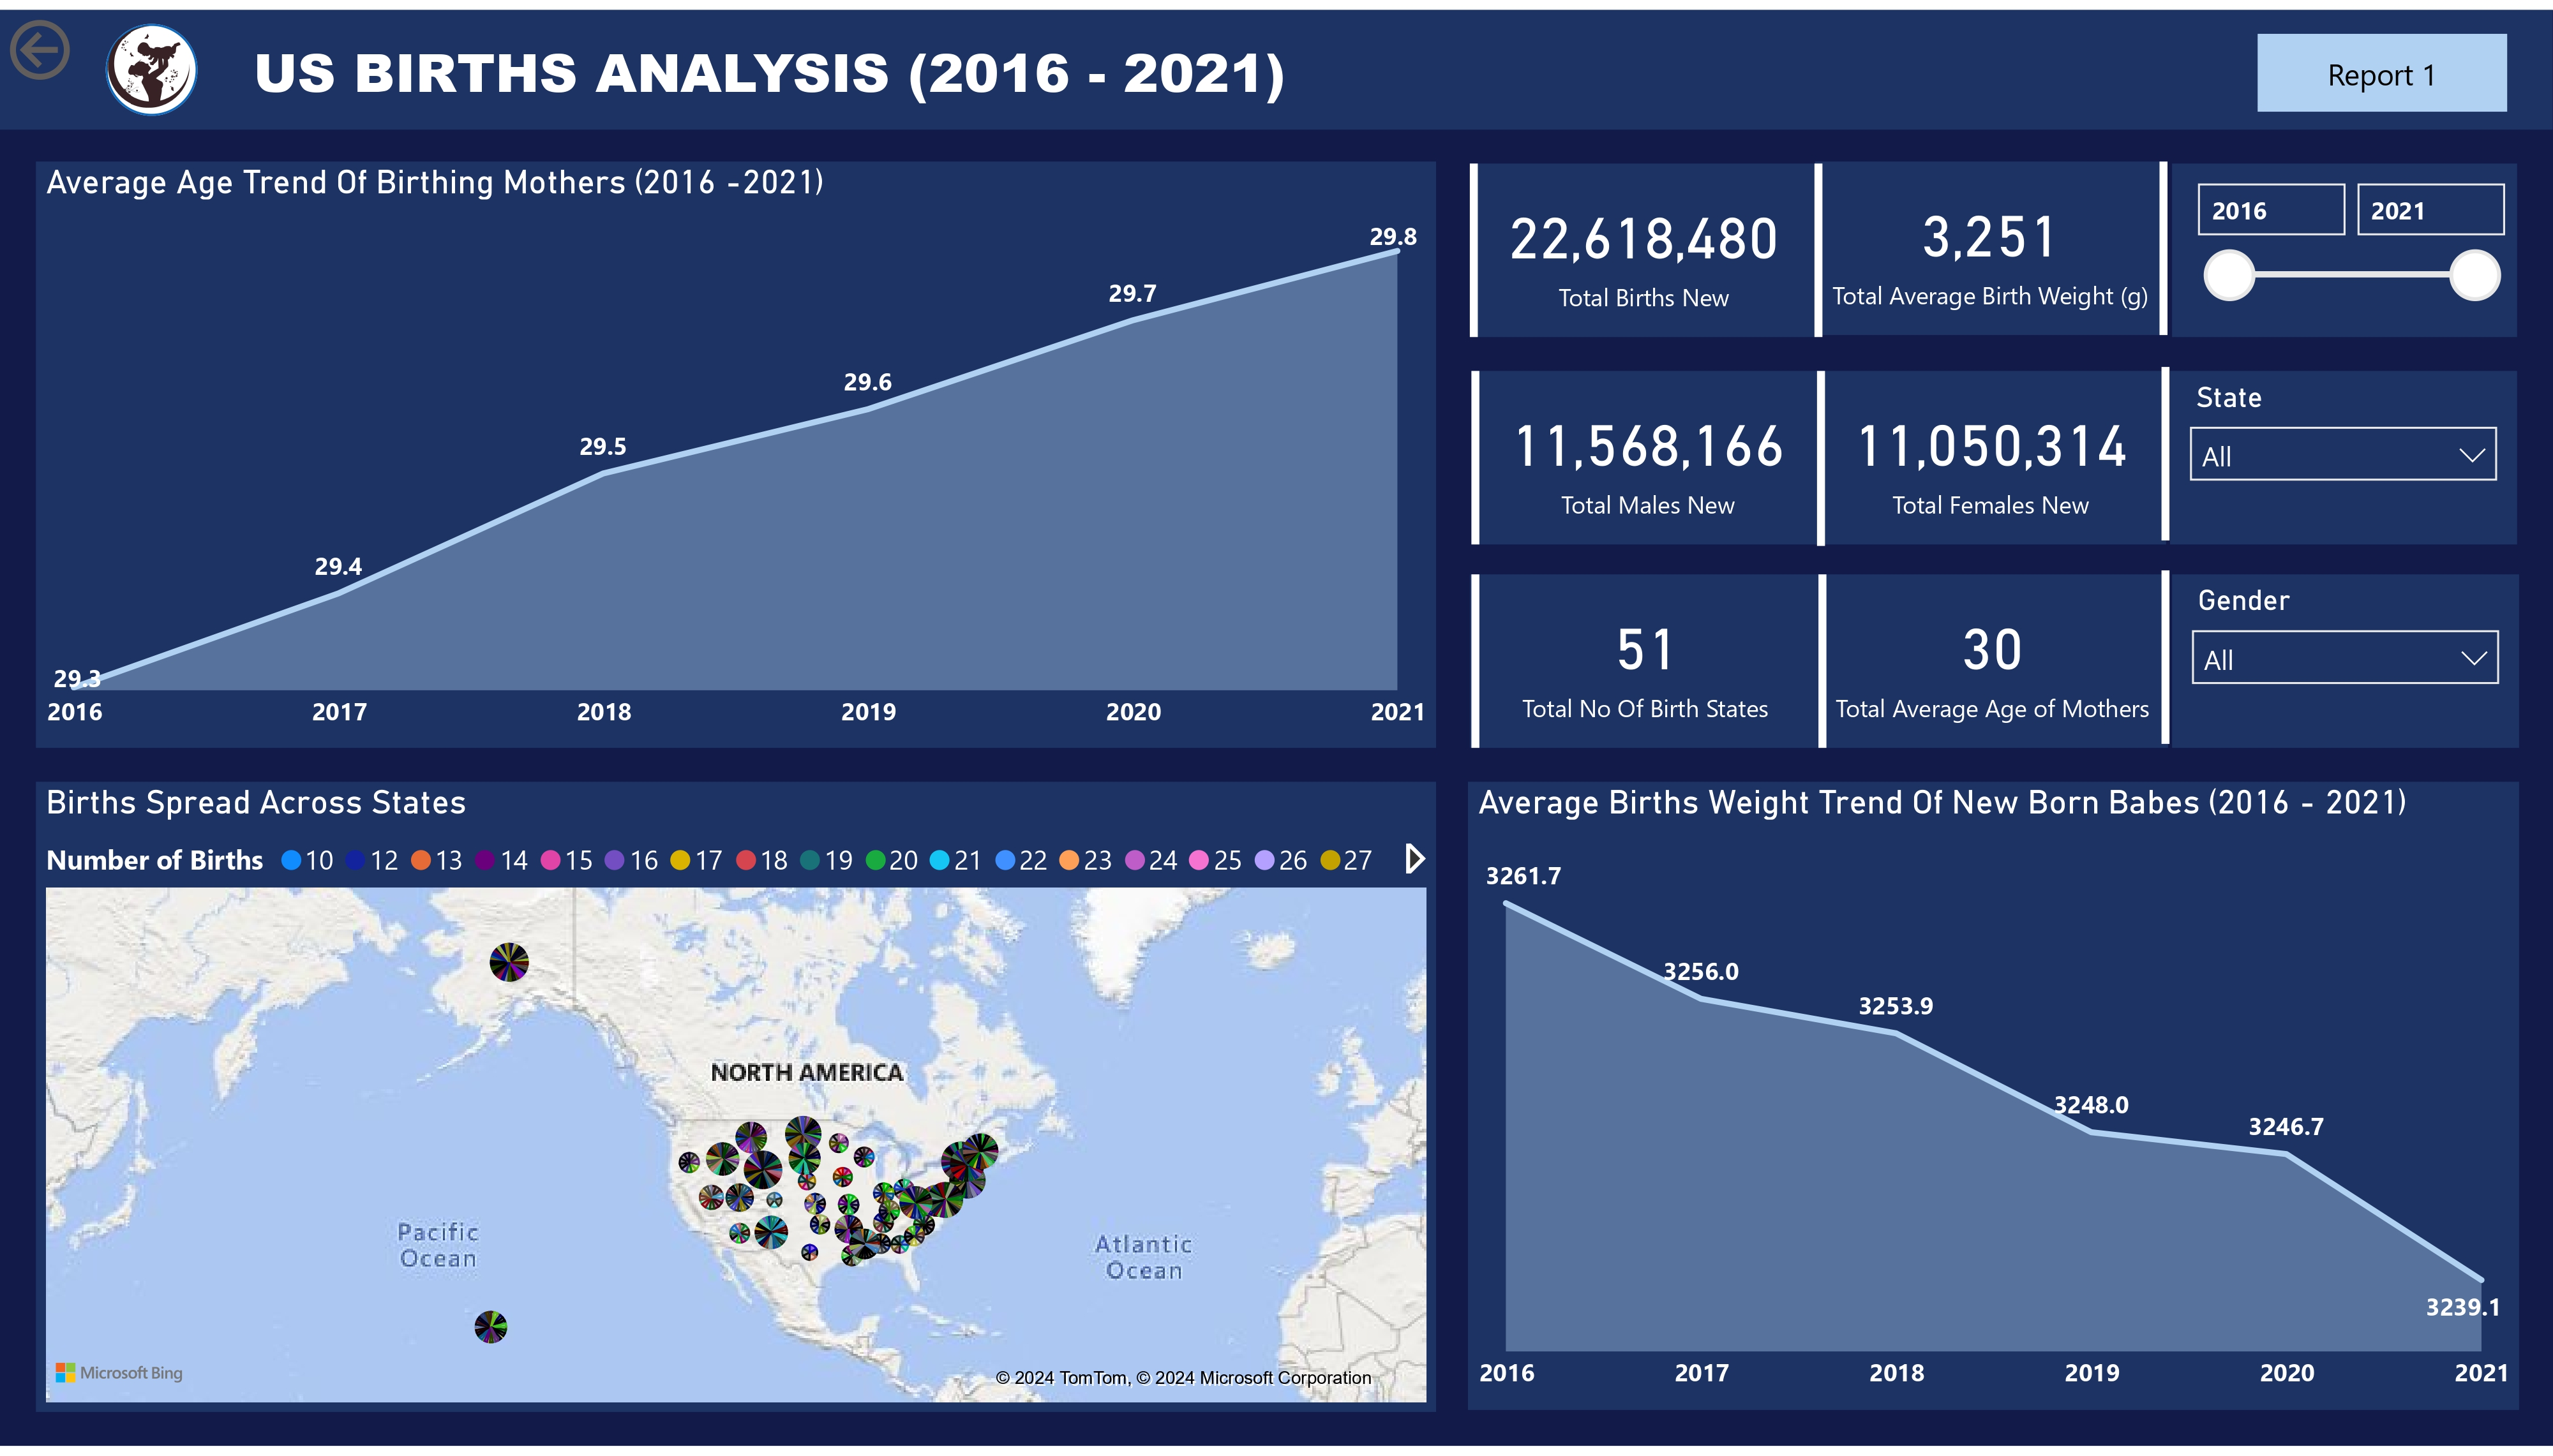

The dashboard page shown, as its layout file describes it:
{"tool":"powerbi","page":{"name":"REPORT 2","canvas":[1280,720],"ordinal":1},"visuals":[{"type":"shape","box":[0,0,1279.8,60],"z":0},{"type":"areaChart","title":"Average Age Trend Of Birthing Mothers (2016 -2021)","fields":{"Category":["us_births_2016_2021.Year"],"Y":["DAX.Total Average Age of Mothers"]},"box":[18.1,75.6,701.6,294.1],"z":1000},{"type":"map","title":"Births Spread Across States","fields":{"Category":["us_births_2016_2021.State"],"Series":["us_births_2016_2021.Number of Births"],"Size":["DAX.Total Average Age of Mothers"]},"box":[18.1,387.1,701.8,316.3],"z":2000},{"type":"actionButton","box":[0,0,100,40],"z":3000},{"type":"areaChart","title":"Average Births Weight Trend Of New Born Babes (2016 - 2021)","fields":{"Category":["us_births_2016_2021.Year"],"Y":["DAX.Total Average Birth Weight"]},"box":[736.4,387.1,527.2,314.6],"z":4000},{"type":"card","fields":{"Values":["DAX.Total Births New"]},"box":[737.1,77.3,174.4,87.2],"z":8000},{"type":"card","fields":{"Values":["DAX.Total Average Birth Weight"]},"box":[909.8,75.7,176,87.2],"z":9000},{"type":"slicer","fields":{"Values":["us_births_2016_2021.Year"]},"box":[1089.2,77.3,172.8,87.2],"z":10000},{"type":"card","fields":{"Values":["DAX.Total Females New"]},"box":[909.8,181,176,87.2],"z":11000},{"type":"card","fields":{"Values":["DAX.Total Males New"]},"box":[738.7,181,174.4,87.2],"z":12000},{"type":"slicer","fields":{"Values":["us_births_2016_2021.State"]},"box":[1087.5,181,174.4,87.2],"z":13000},{"type":"card","fields":{"Values":["DAX.Total Average Age of Mothers"]},"box":[911.5,283,176,87.2],"z":14000},{"type":"card","fields":{"Values":["DAX.Total No Of Birth States"]},"box":[737.1,283,176,87.2],"z":15000},{"type":"slicer","fields":{"Values":["us_births_2016_2021.Gender"]},"box":[1089.2,283,174.4,87.2],"z":16000},{"type":"shape","box":[1064.7,75.6,39.4,87.1],"z":17000},{"type":"shape","box":[734.5,77.2,9.9,87.1],"z":18000},{"type":"shape","box":[892.9,180.6,40,87.7],"z":19000},{"type":"shape","box":[719.7,180.7,39.4,87.1],"z":20000},{"type":"shape","box":[1066.4,179.1,39.4,87.1],"z":21000},{"type":"shape","box":[892.2,77.2,39.4,87.1],"z":22000},{"type":"shape","box":[1066.4,281,39.4,87.1],"z":23000},{"type":"shape","box":[893.9,282.6,39.4,87.1],"z":24000},{"type":"shape","box":[719.7,282.6,39.4,87.1],"z":25000},{"type":"actionButton","box":[1131.9,11.5,125,39.5],"z":25001},{"type":"textbox","box":[121.7,6.6,587.4,51],"z":25002},{"type":"shape","box":[52.6,6.6,46.1,46.1],"z":25003},{"type":"image","box":[49.4,3.3,51,51],"z":25004}]}

Visuals, with their boxes in screenshot pixels (x1, y1, x2, y2), scaled from the page's 1280x720 canvas onto the 2553x1456 screenshot:
shape: 0:0:2552:121
"Average Age Trend Of Birthing Mothers (2016 -2021)" areaChart: 36:153:1435:748
"Births Spread Across States" map: 36:783:1436:1422
actionButton: 0:0:199:81
"Average Births Weight Trend Of New Born Babes (2016 - 2021)" areaChart: 1469:783:2520:1419
card - DAX.Total Births New: 1470:156:1818:332
card - DAX.Total Average Birth Weight: 1815:153:2166:329
slicer - us_births_2016_2021.Year: 2173:156:2517:332
card - DAX.Total Females New: 1815:366:2166:542
card - DAX.Total Males New: 1473:366:1821:542
slicer - us_births_2016_2021.State: 2169:366:2517:542
card - DAX.Total Average Age of Mothers: 1818:572:2169:748
card - DAX.Total No Of Birth States: 1470:572:1821:748
slicer - us_births_2016_2021.Gender: 2173:572:2520:748
shape: 2123:153:2202:329
shape: 1465:156:1485:332
shape: 1781:365:1860:542
shape: 1435:366:1514:542
shape: 2127:362:2206:539
shape: 1779:156:1858:332
shape: 2127:568:2206:745
shape: 1783:572:1862:748
shape: 1435:572:1514:748
actionButton: 2257:23:2507:103
textbox: 243:13:1414:117
shape: 105:13:197:107
image: 98:6:200:110
